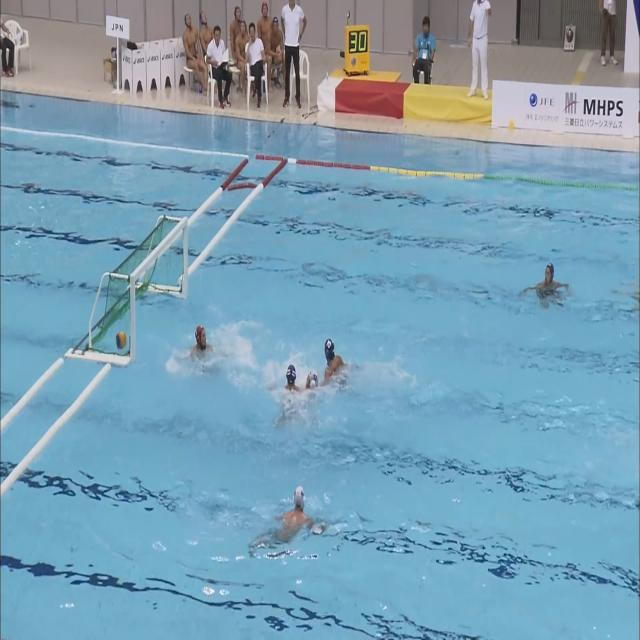ball: (116, 332, 126, 349)
